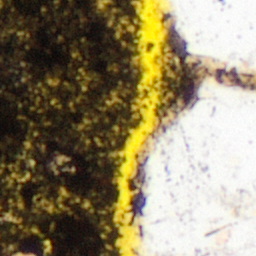cement_matrix: (0, 0, 139, 255), (159, 34, 197, 113), (131, 180, 141, 211)
cracks: (114, 0, 255, 255), (158, 33, 198, 114), (130, 179, 142, 212)
gravel_crushed_stones: (137, 78, 255, 255), (164, 0, 255, 72)
